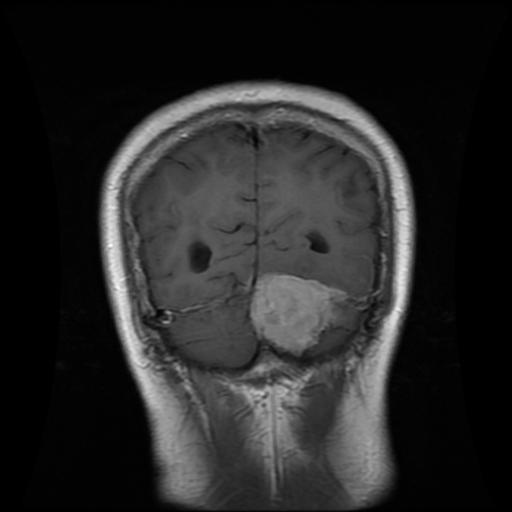Menigiomia_tumour: (249, 272, 343, 354)
